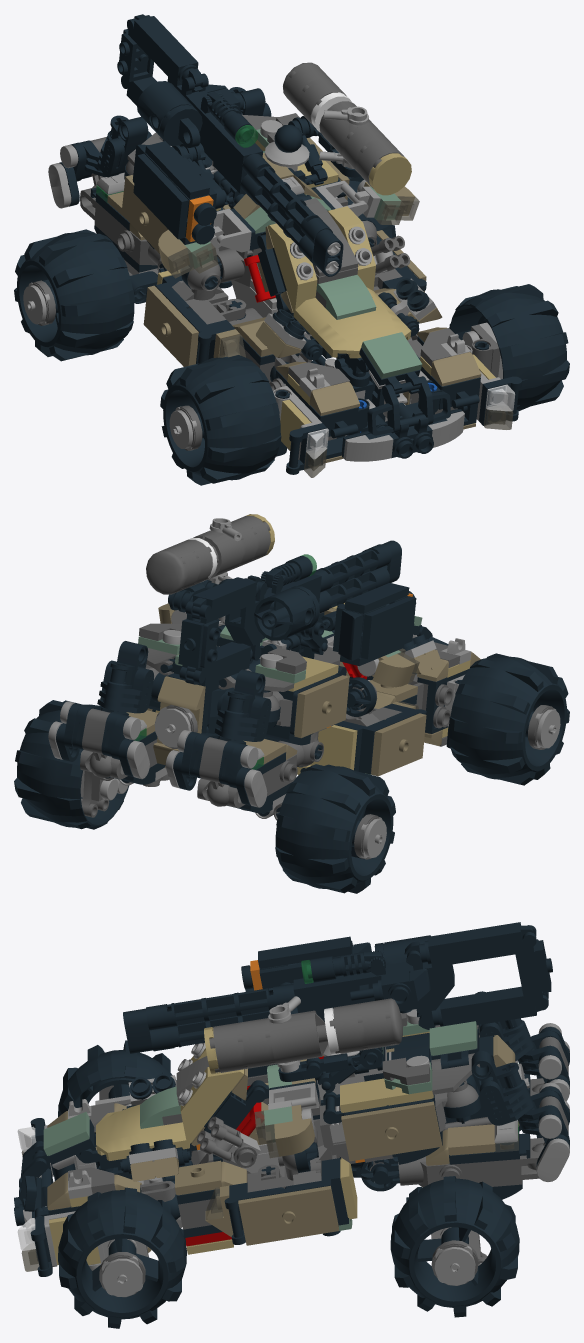
Rendered from rv-6387-stormer-rover.dae.
3 renders of one model, top to bottom at view 1: azimuth 30°, elevation 25°; view 2: azimuth 150°, elevation 25°; view 3: azimuth 270°, elevation 25°, orthographic. The views are drawn at different scales.
Size of the model in its own units: 388 by 474 by 284.
